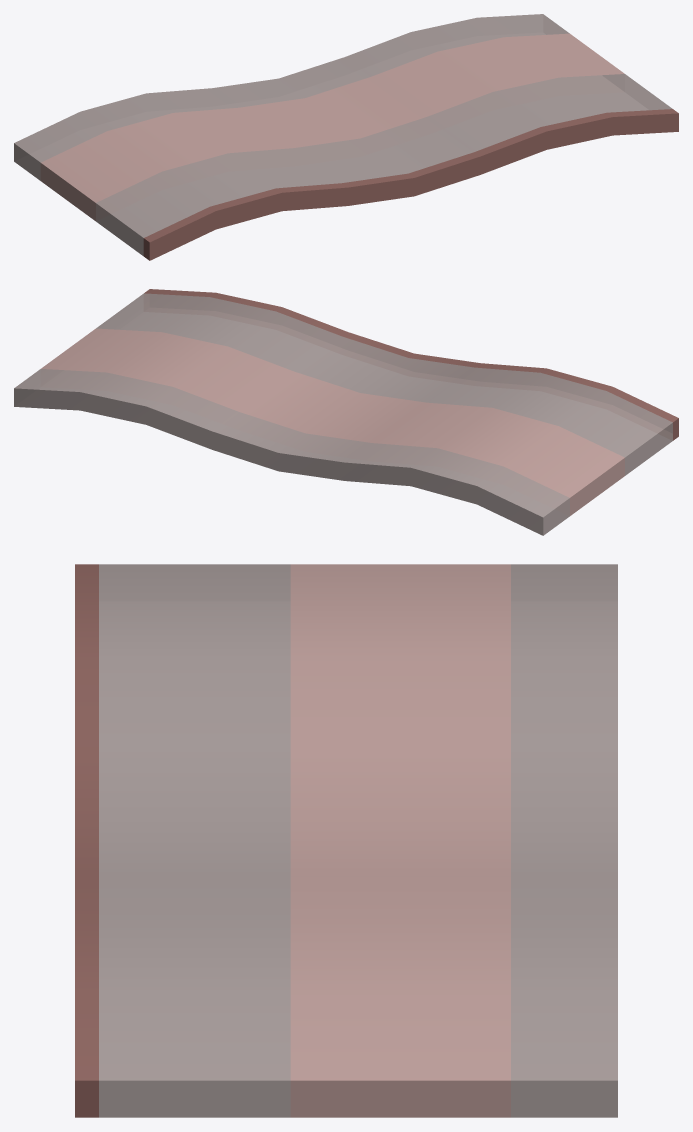
File: BaconUncooked03.fbx
3 views of the same model, one above another, from view 1: azimuth 30°, elevation 25°; view 2: azimuth 150°, elevation 25°; view 3: azimuth 270°, elevation 25° (orthographic). The views are drawn at different scales.
Parts seen in each view (by area): view 1: Fat, Middle, Rind; view 2: Fat, Middle, Rind; view 3: Fat, Middle, Rind.
Boxes of the visible parts, box(x1,y1,x2,y2) form: Fat: box(14, 14, 672, 255); Middle: box(40, 33, 624, 221); Rind: box(143, 109, 678, 260); Fat: box(14, 293, 672, 535); Middle: box(41, 328, 624, 515); Rind: box(144, 289, 678, 440); Fat: box(99, 564, 617, 1117); Middle: box(290, 564, 510, 1117); Rind: box(75, 564, 98, 1117).
Bounding box in the file's own units: 9 × 0.5839 × 4.
